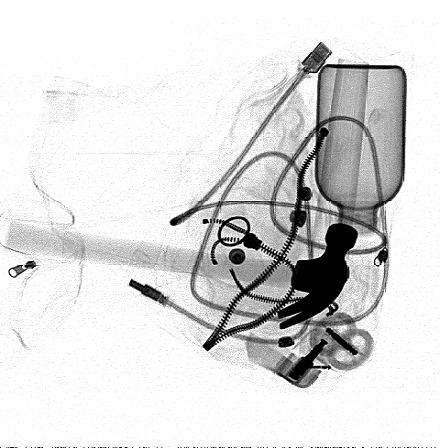Hammer: (5, 220, 359, 330)
